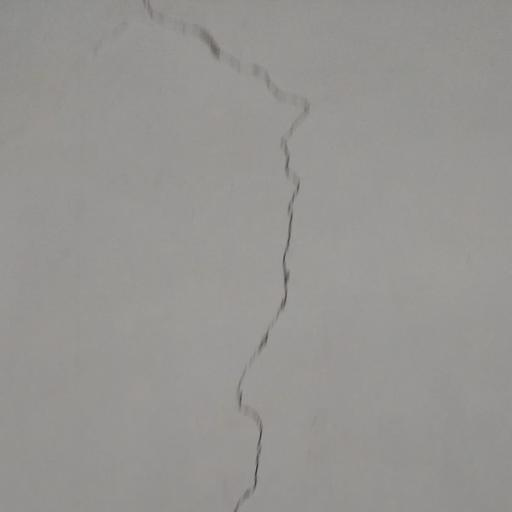minor_crack: (135, 0, 322, 512)
